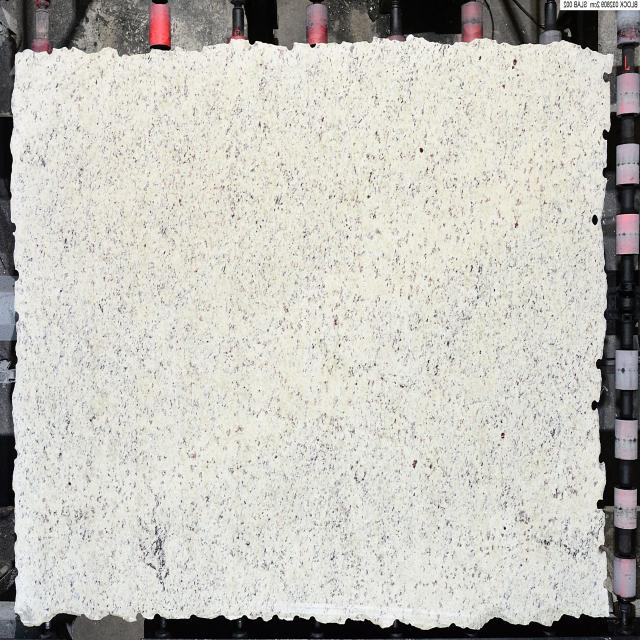chapa: (11, 39, 611, 629)
veio: (594, 356, 606, 374), (590, 396, 600, 414), (594, 497, 606, 512), (600, 70, 612, 84), (590, 211, 598, 231), (598, 544, 606, 558), (600, 130, 610, 140)
